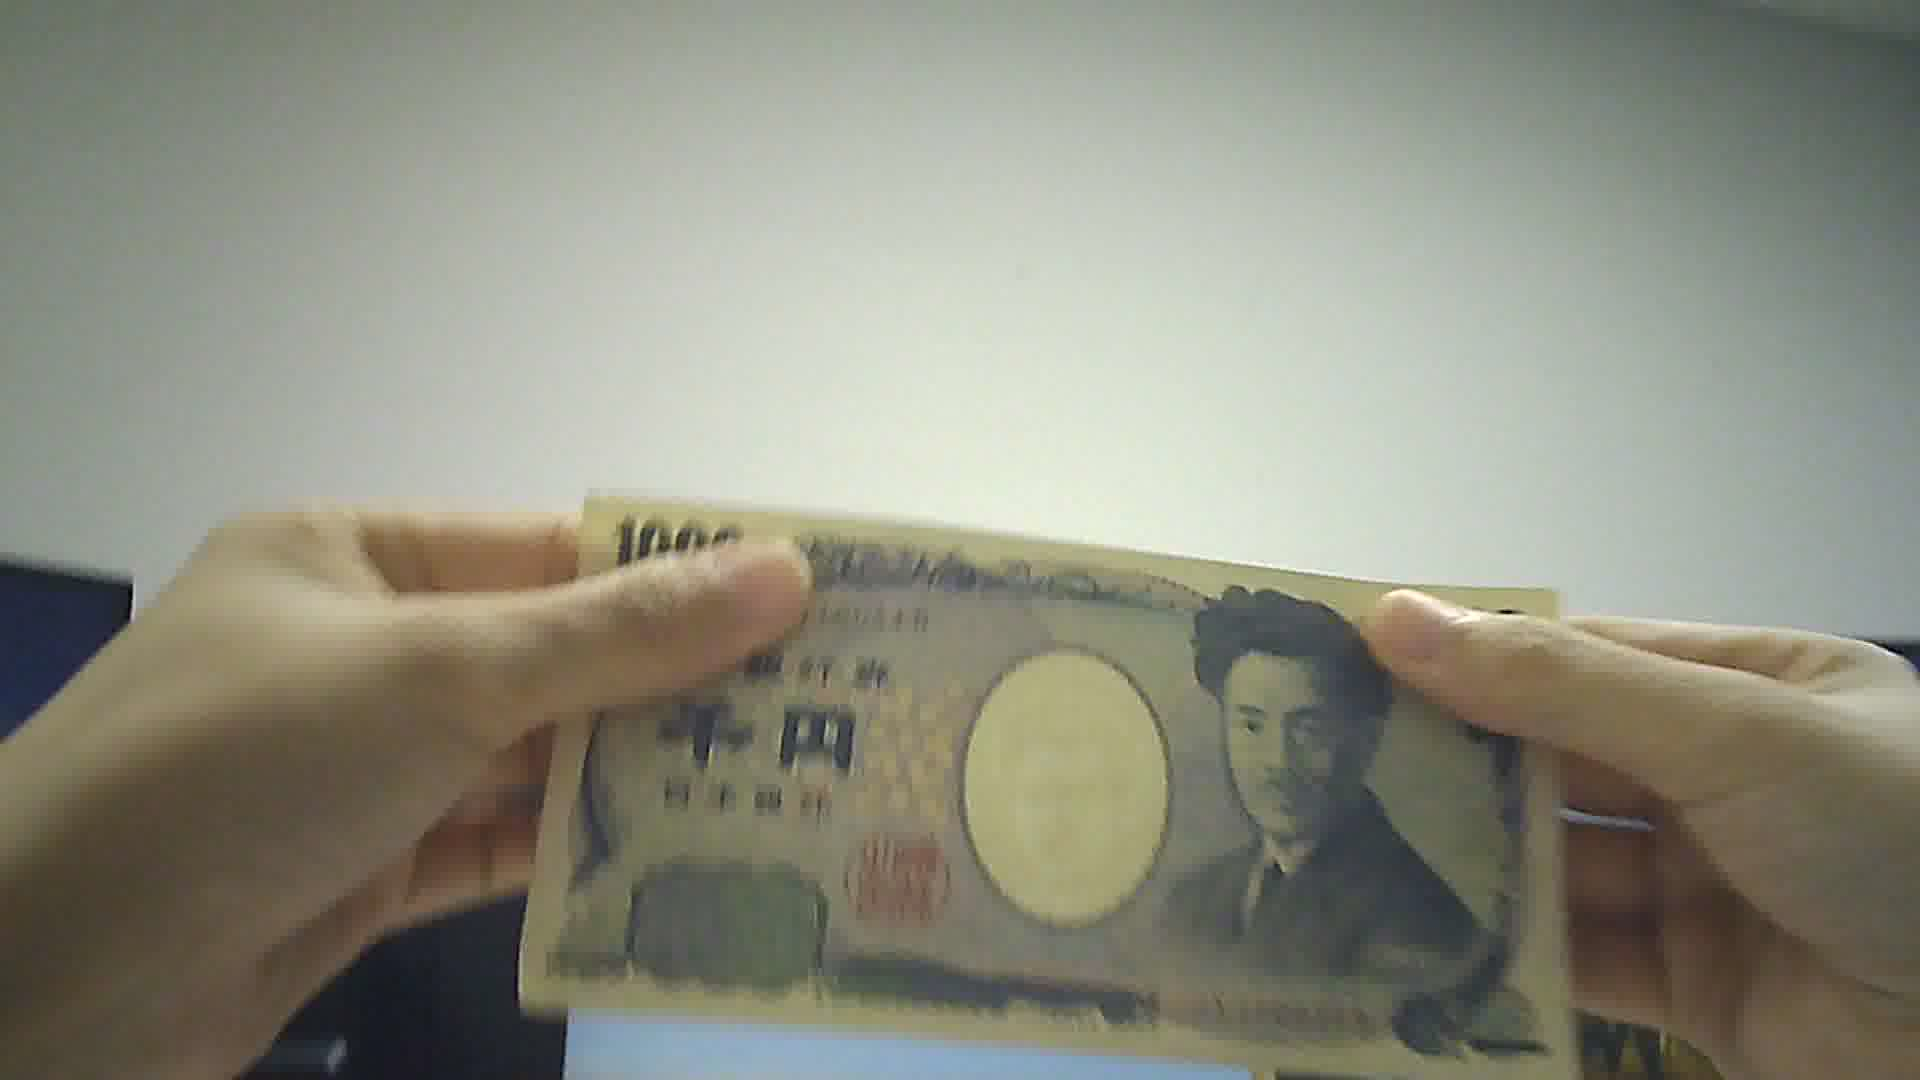1,000 Yen: (527, 468, 1588, 1079)
